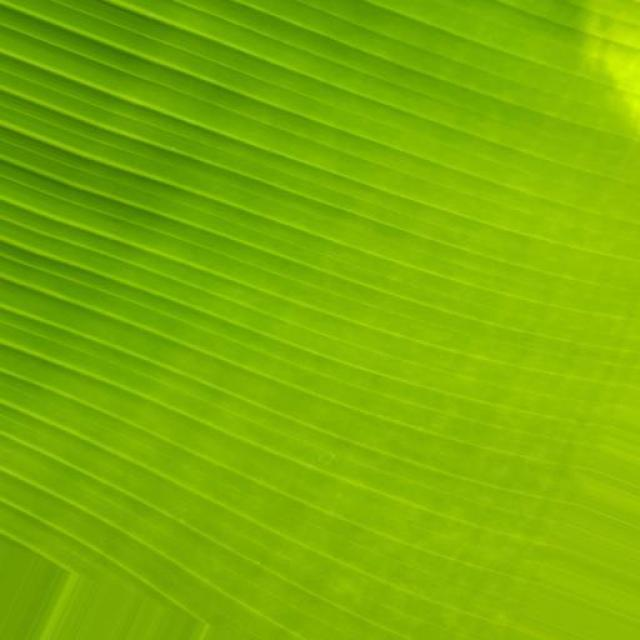Black_leaf_spot: (0, 0, 595, 616)
